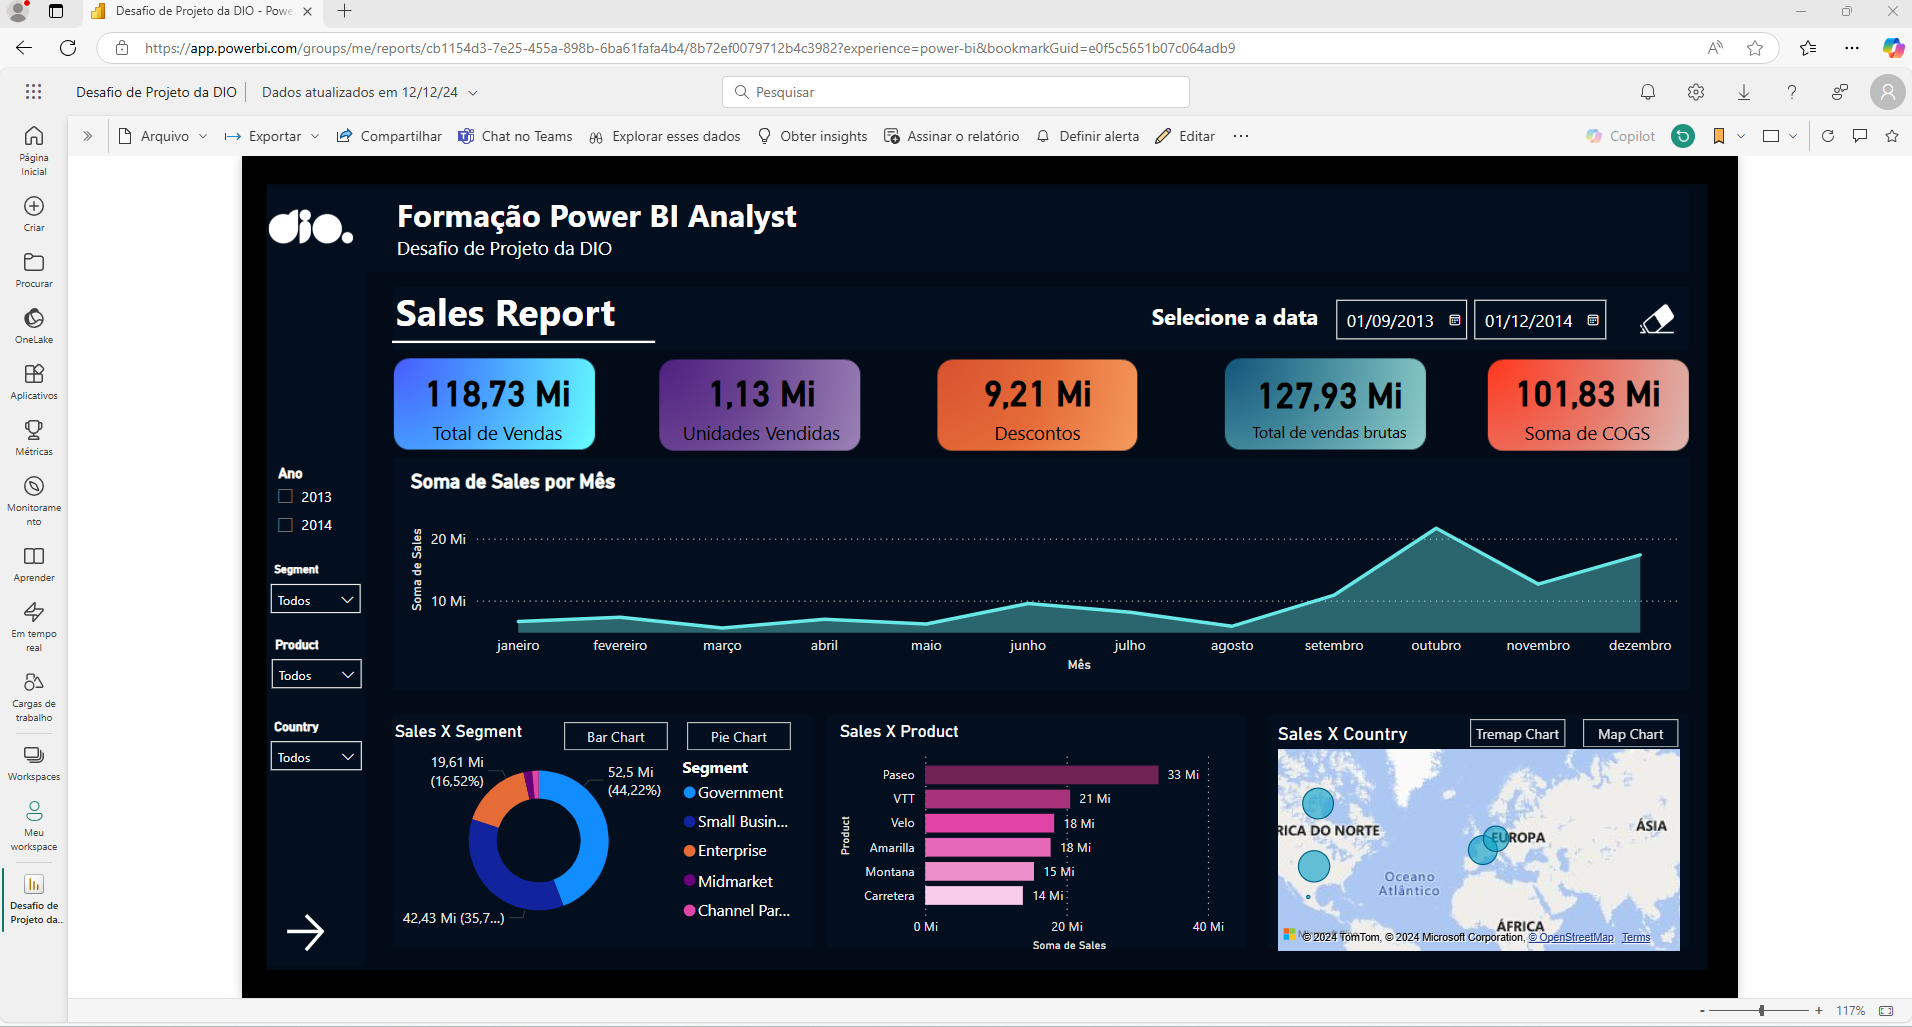

This screenshot's page, from the dashboard's own definition file:
{"tool":"powerbi","page":{"name":"Vendas","canvas":[1280,720],"ordinal":0},"visuals":[{"type":"image","title":"Logo_DIO","box":[18,25.1,81.7,70],"z":0},{"type":"textbox","box":[126.6,105,568.3,86.2],"z":0,"group":"g5"},{"type":"image","title":"Clean","box":[1183.3,120.3,52.1,38.6],"z":0,"group":"g1"},{"type":"card","fields":{"Values":["Sum(financials. Sales)"]},"box":[139.2,175.1,158,72.7],"z":0,"group":"g2"},{"type":"slicer","fields":{"Values":["financials.Date"]},"box":[922.9,113.1,268.4,59.3],"z":1000,"group":"g1"},{"type":"shape","box":[128.4,142.7,225.3,32.3],"z":1000,"group":"g5"},{"type":"card","fields":{"Values":["Sum(financials.Units Sold)"]},"box":[364.5,175.1,158,72.7],"z":1000,"group":"g2"},{"type":"areaChart","fields":{"Category":["financials.Date.Variation.Hierarquia de datas.Mês"],"Y":["Sum(financials. Sales)"]},"box":[139.1,267.5,1096.2,178],"z":1000},{"type":"donutChart","title":"Sales X Segment","fields":{"Y":["Sum(financials. Sales)"],"Category":["financials.Segment"]},"box":[126,484,362.1,186.6],"z":1500,"group":"g4"},{"type":"textbox","box":[127.5,26.9,899.6,68.2],"z":2000},{"type":"textbox","box":[773,120.3,158,40.4],"z":2000,"group":"g1"},{"type":"card","fields":{"Values":["Sum(financials.Discounts)"]},"box":[600.6,175.1,158,72.7],"z":2000,"group":"g2"},{"type":"map","title":"Sales X Country","fields":{"Category":["financials.Country"],"Size":["Sum(financials. Sales)"]},"box":[881.2,484.1,353.6,201.3],"z":2000,"group":"g3"},{"type":"actionButton","box":[1180.6,120.3,54.8,40.4],"z":3000,"group":"g1"},{"type":"card","fields":{"Values":["Sum(financials.Gross Sales)"]},"box":[850.2,175.1,158,72.7],"z":3000,"group":"g2"},{"type":"clusteredBarChart","title":"Sales X Product","fields":{"Category":["financials.Product"],"Y":["Sum(financials. Sales)"]},"box":[506.3,483.9,343.8,201.1],"z":3000},{"type":"actionButton","title":"Botão-map","box":[1147,481.4,81.6,24.3],"z":3250,"group":"g3"},{"type":"actionButton","title":"Botão-tremap","box":[1050.5,481.4,81.6,24.3],"z":3500,"group":"g3"},{"type":"actionButton","title":"Botão-bar","box":[275.6,483.9,88.9,24.2],"z":3500,"group":"g4"},{"type":"group","id":"g1","title":"Filtro por data","box":[773,113.1,462.3,59.3],"z":4000},{"type":"card","fields":{"Values":["Sum(financials.COGS)"]},"box":[1071.1,175.1,158,72.7],"z":4000,"group":"g2"},{"type":"actionButton","title":"Botão-pie","box":[380.6,483.9,88.9,24.2],"z":4000,"group":"g4"},{"type":"group","id":"g2","title":"Cartões","box":[139.2,175.1,1089.9,72.7],"z":5000},{"type":"group","id":"g3","title":"Sales x país","box":[881,481.4,353.9,204],"z":6000},{"type":"group","id":"g4","title":"Sales x segment","box":[126,483.9,362.1,186.8],"z":7000},{"type":"group","id":"g5","title":"Title report","box":[126.6,105,568.3,86.2],"z":8000},{"type":"actionButton","box":[32.4,643.4,54,42.2],"z":9000},{"type":"slicer","fields":{"Values":["financials.Date.Variation.Hierarquia de datas.Ano"]},"box":[18.1,258.9,81.5,77.9],"z":10000},{"type":"slicer","fields":{"Values":["financials.Segment"]},"box":[14.4,342.9,97,63.7],"z":11000},{"type":"slicer","fields":{"Values":["financials.Product"]},"box":[15.4,406.4,96.9,59.7],"z":11001},{"type":"slicer","fields":{"Values":["financials.Country"]},"box":[14.5,476.2,97.8,63.4],"z":11002}]}

Visuals, with their boxes on the page's 1280x720 design canvas (x1, y1, x2, y2). These are canvas units, not pixel positions in the 1912x1027 screenshot, which may show the page scaled, cropped or inside an application window:
"Logo_DIO" image: <box>18,25,100,95</box>
textbox: <box>127,105,695,191</box>
"Clean" image: <box>1183,120,1235,159</box>
card - Sum(financials. Sales): <box>139,175,297,248</box>
slicer - financials.Date: <box>923,113,1191,172</box>
shape: <box>128,143,354,175</box>
card - Sum(financials.Units Sold): <box>364,175,522,248</box>
areaChart - financials.Date.Variation.Hierarquia de datas.Mês x Sum(financials. Sales): <box>139,268,1235,446</box>
"Sales X Segment" donutChart: <box>126,484,488,671</box>
textbox: <box>128,27,1027,95</box>
textbox: <box>773,120,931,161</box>
card - Sum(financials.Discounts): <box>601,175,759,248</box>
"Sales X Country" map: <box>881,484,1235,685</box>
actionButton: <box>1181,120,1235,161</box>
card - Sum(financials.Gross Sales): <box>850,175,1008,248</box>
"Sales X Product" clusteredBarChart: <box>506,484,850,685</box>
"Botão-map" actionButton: <box>1147,481,1229,506</box>
"Botão-tremap" actionButton: <box>1050,481,1132,506</box>
"Botão-bar" actionButton: <box>276,484,364,508</box>
"Filtro por data" group: <box>773,113,1235,172</box>
card - Sum(financials.COGS): <box>1071,175,1229,248</box>
"Botão-pie" actionButton: <box>381,484,470,508</box>
"Cartões" group: <box>139,175,1229,248</box>
"Sales x país" group: <box>881,481,1235,685</box>
"Sales x segment" group: <box>126,484,488,671</box>
"Title report" group: <box>127,105,695,191</box>
actionButton: <box>32,643,86,686</box>
slicer - financials.Date.Variation.Hierarquia de datas.Ano: <box>18,259,100,337</box>
slicer - financials.Segment: <box>14,343,111,407</box>
slicer - financials.Product: <box>15,406,112,466</box>
slicer - financials.Country: <box>14,476,112,540</box>
